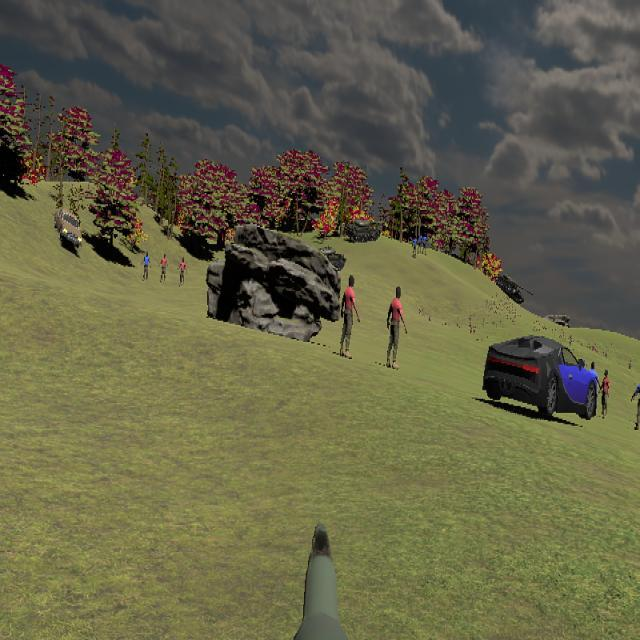Human: (385, 286, 408, 370), (386, 285, 407, 370)
Tank: (491, 270, 535, 304), (344, 217, 386, 244)
car: (483, 336, 601, 421), (54, 208, 82, 248)
